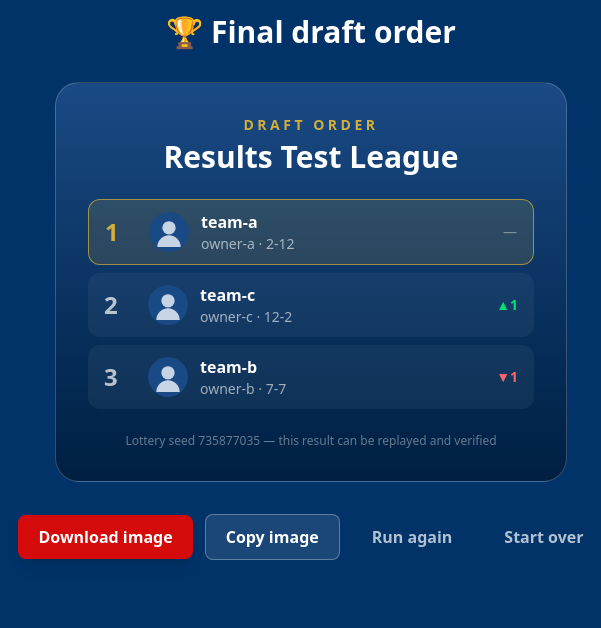
ResultsScreen › download button exports the poster
Click the button "Download image". click: (106, 537)
box: 18,515 -> 193,559
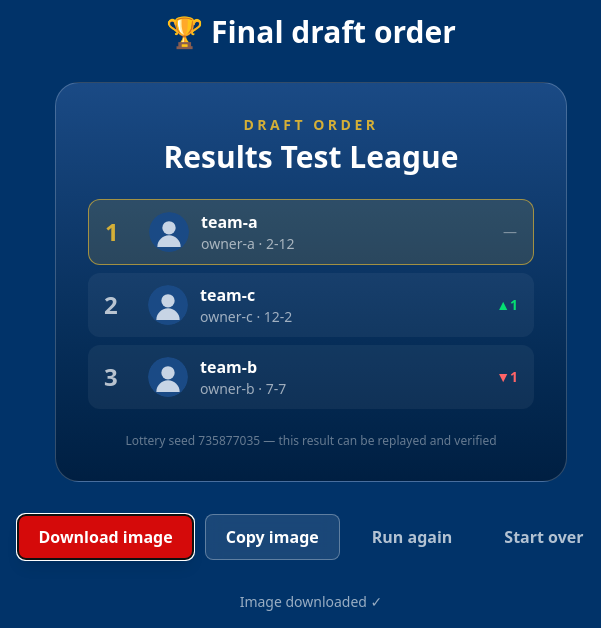
Now the message shows "downloaded", box 240,592 -> 382,611
